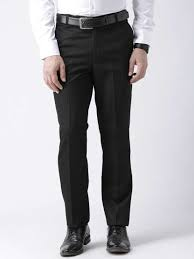F_belt: (52, 7, 146, 34)
F_dress pants: (47, 22, 139, 230)
